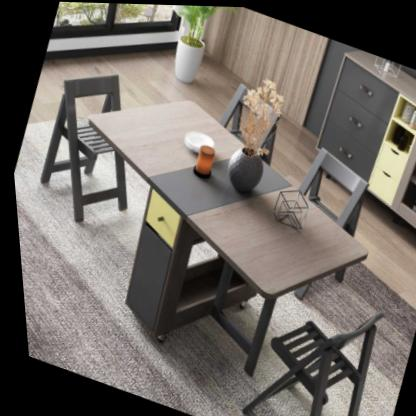Dining Table: (1, 13, 416, 416)
Wooden floor: (25, 44, 241, 125), (349, 190, 416, 312), (266, 133, 316, 187)
